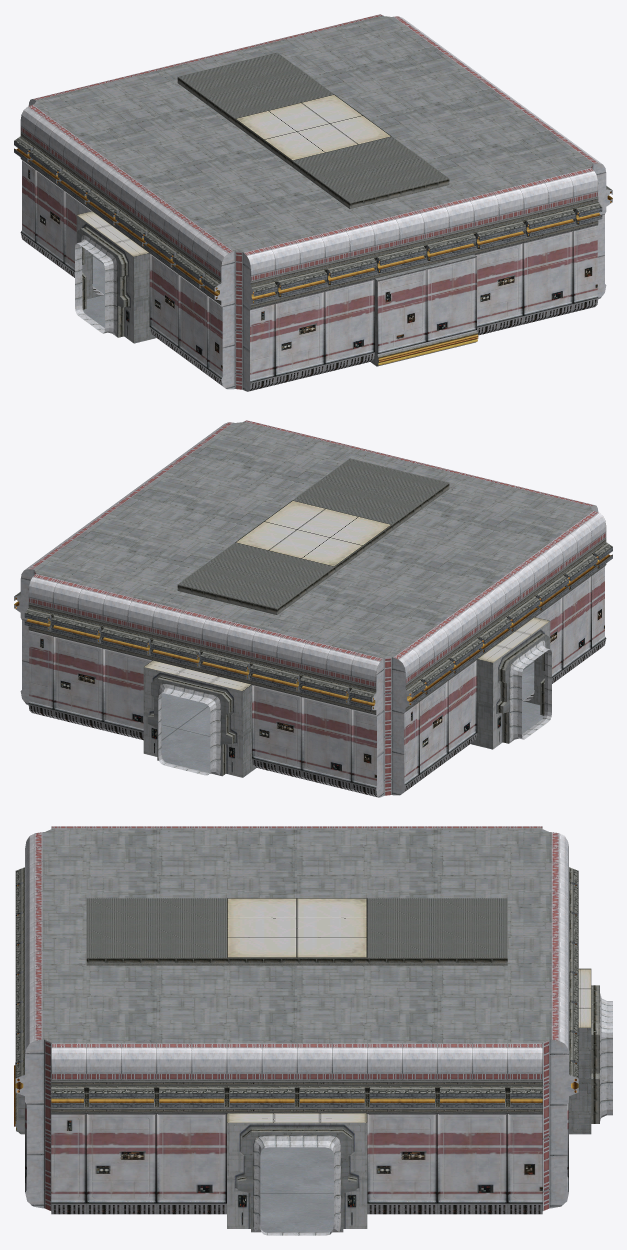
The model's file is poi_all_rebl_bunker_s01_r17_armory_mesh_r17.fbx.
3 renders of one model, top to bottom at view 1: azimuth 30°, elevation 25°; view 2: azimuth 150°, elevation 25°; view 3: azimuth 270°, elevation 25°, orthographic. The views are drawn at different scales.
Parts seen in each view (by area): view 1: mesh_node; view 2: mesh_node; view 3: mesh_node.
Part boxes in pixels (box(x1,y1,x2,y2)): mesh_node: box(14, 14, 612, 391); mesh_node: box(14, 420, 612, 797); mesh_node: box(14, 826, 612, 1235).
Size of the model in its own units: 18 by 5.55 by 17.07.
